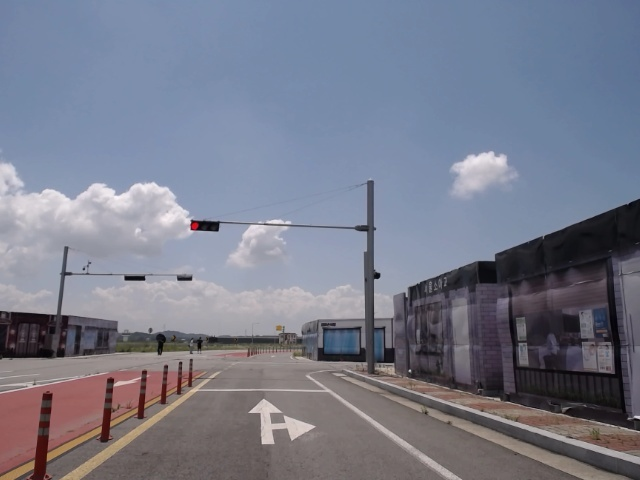red_3: (190, 220, 220, 233)
